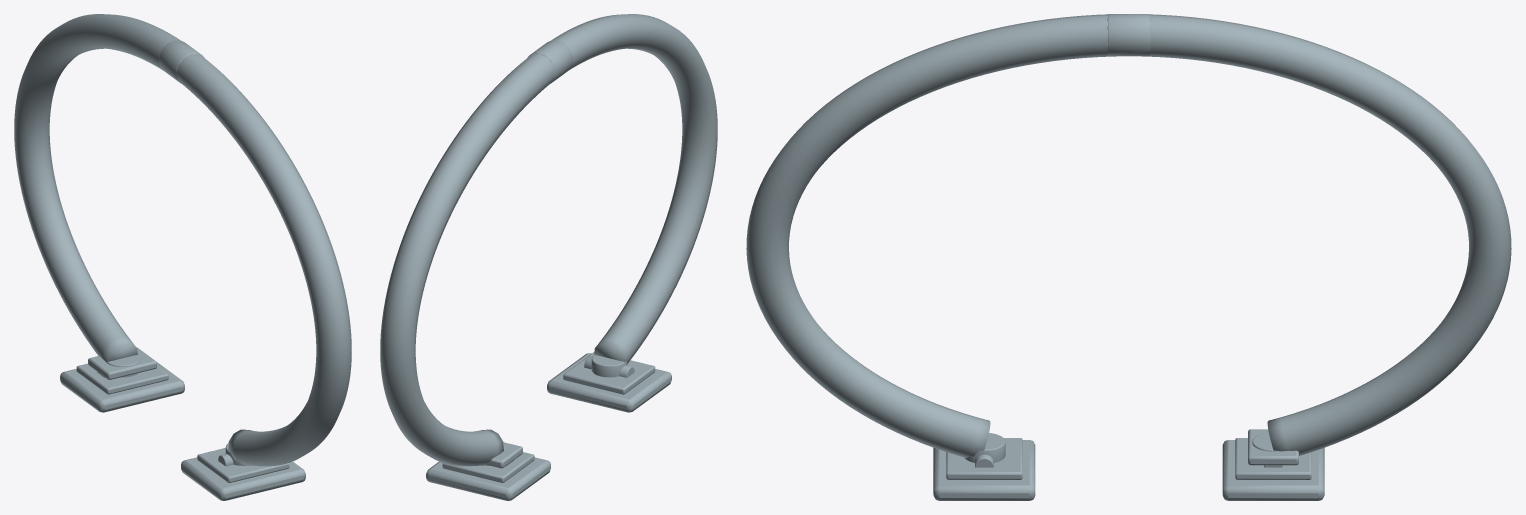
Rendered from 16-right-open-metal-ring.fbx.
3 renders of one model, left to right at view 1: azimuth 30°, elevation 25°; view 2: azimuth 150°, elevation 25°; view 3: azimuth 270°, elevation 25°, orthographic. The views are drawn at different scales.
Visible parts, largest first — view 1: right-open-metal-ring; view 2: right-open-metal-ring; view 3: right-open-metal-ring.
Boxes of the visible parts, x1,y1,x2,y2 form: right-open-metal-ring: (14, 14, 351, 500); right-open-metal-ring: (380, 14, 717, 500); right-open-metal-ring: (746, 14, 1511, 500).
Size of the model in its own units: 1400 by 6000 by 9000.
1 material, 1 textured.
